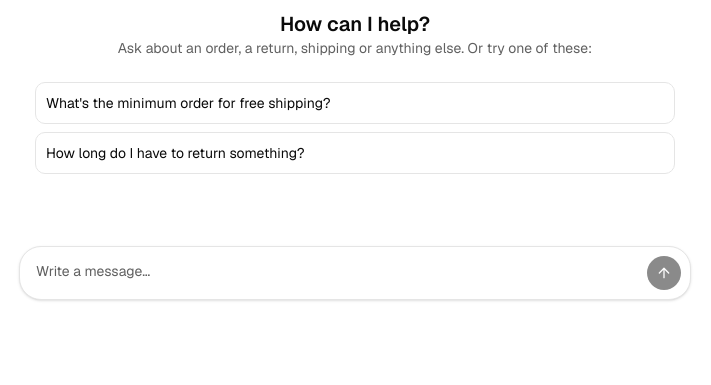
Test: ChatPage › says so when the server cannot be reached
Type "Hello" into the text box labelled "message" at coordinates (337, 273), box [36, 255, 638, 291]
Then press Enter
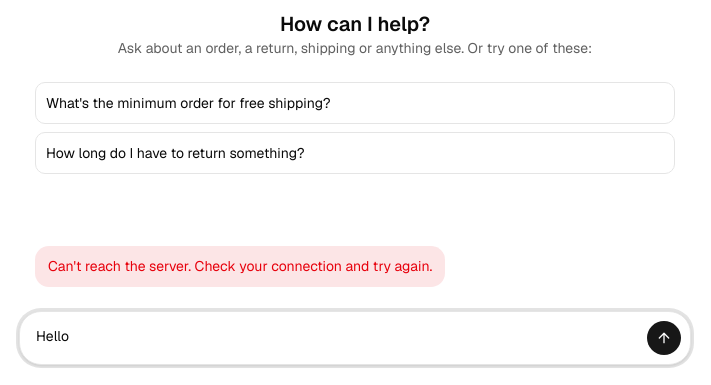
Check: the message shows "Can't reach the server", box [48, 257, 432, 275]
